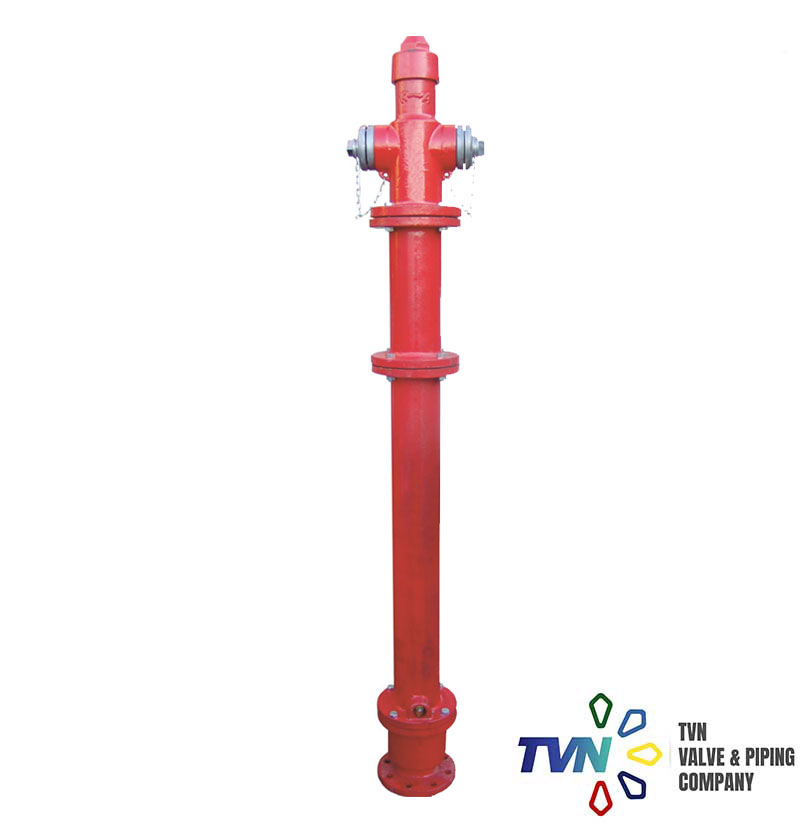FireHydrant: (312, 29, 483, 799)
